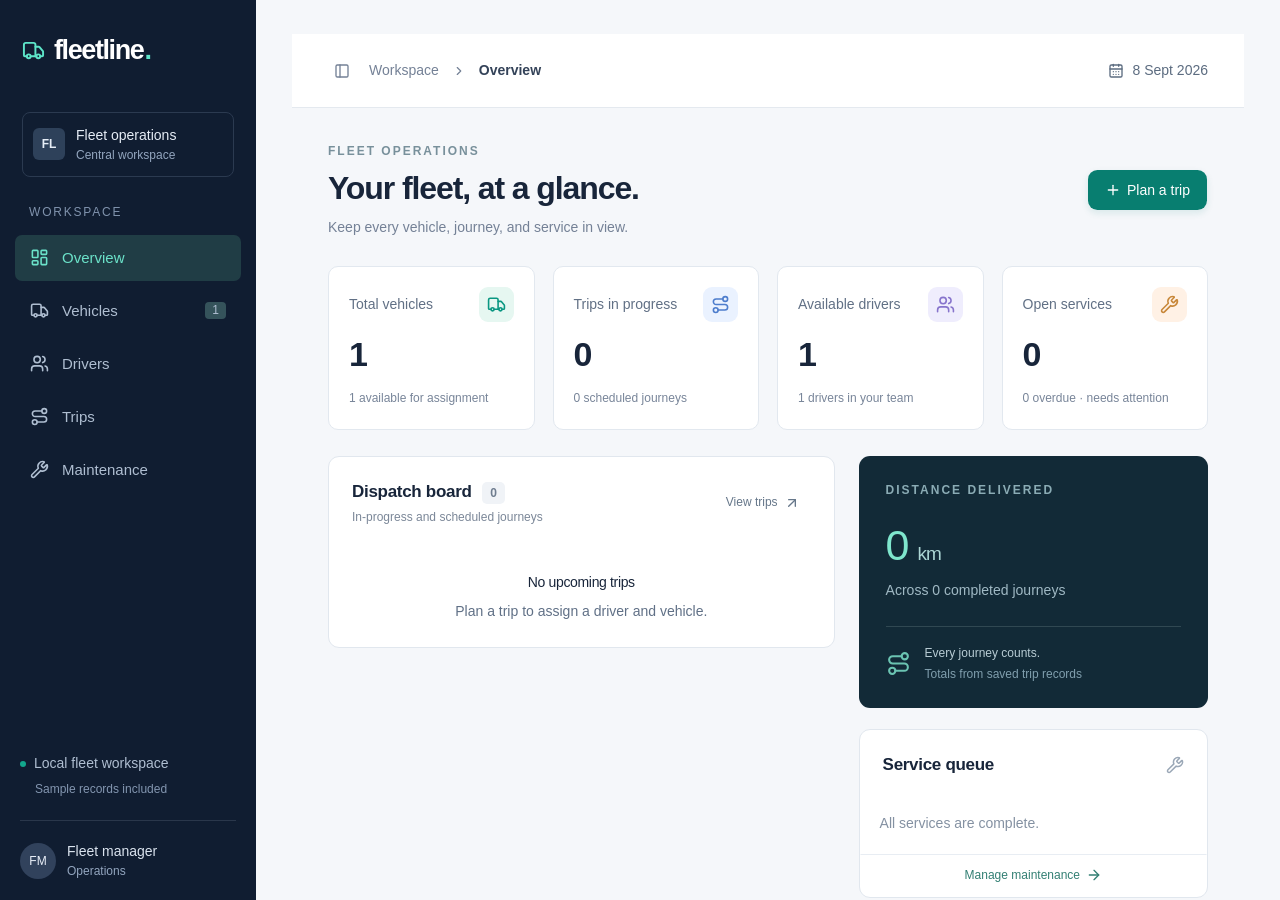
Test: Fleet workflows › requires confirmation before deleting
Expected: the text "1 available for assignment" is shown, [349, 391, 488, 405]
Click the button "Vehicles 1": (128, 310) [15, 288, 241, 334]
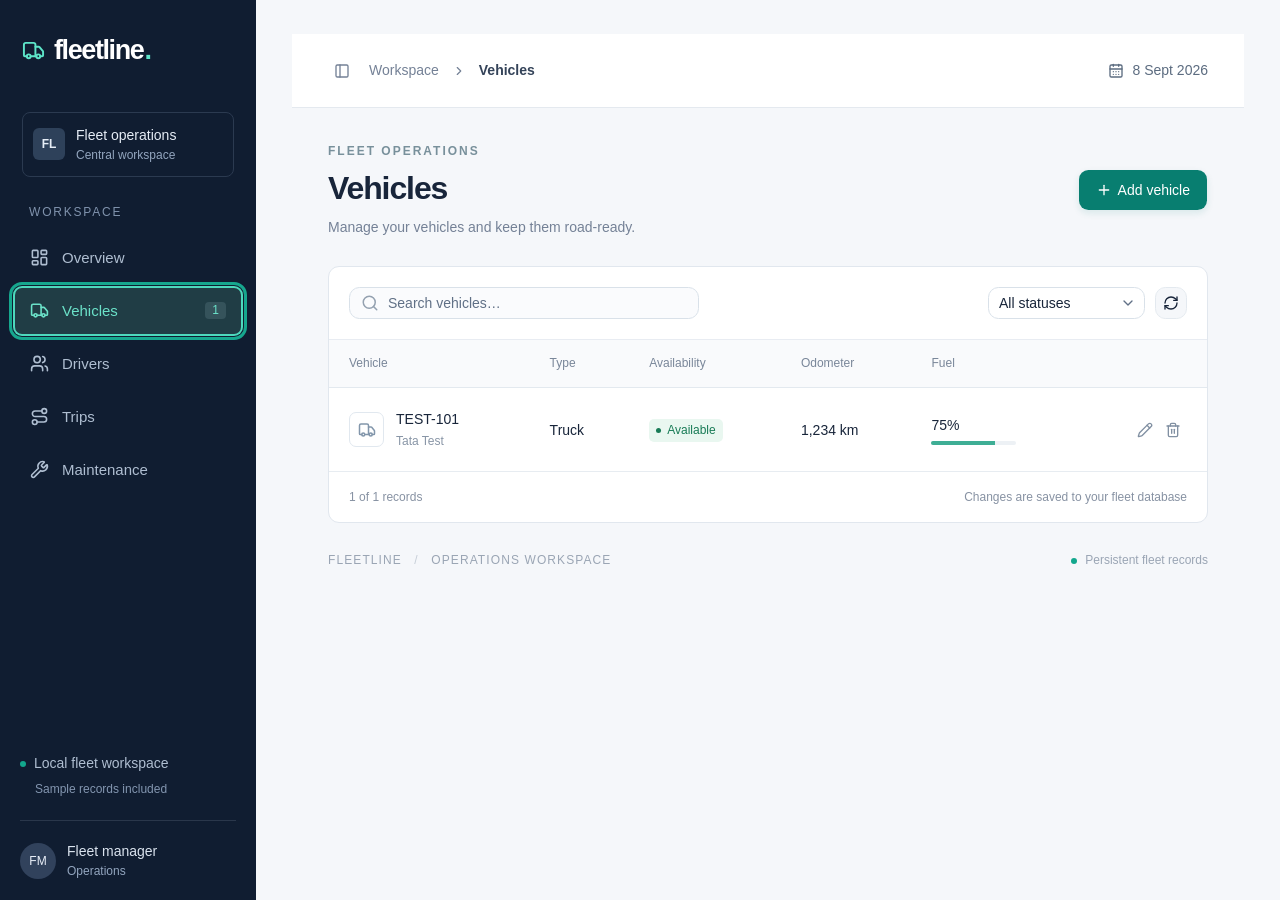
Click the button named "Delete vehicle 1": (1173, 430) [1159, 416, 1187, 444]
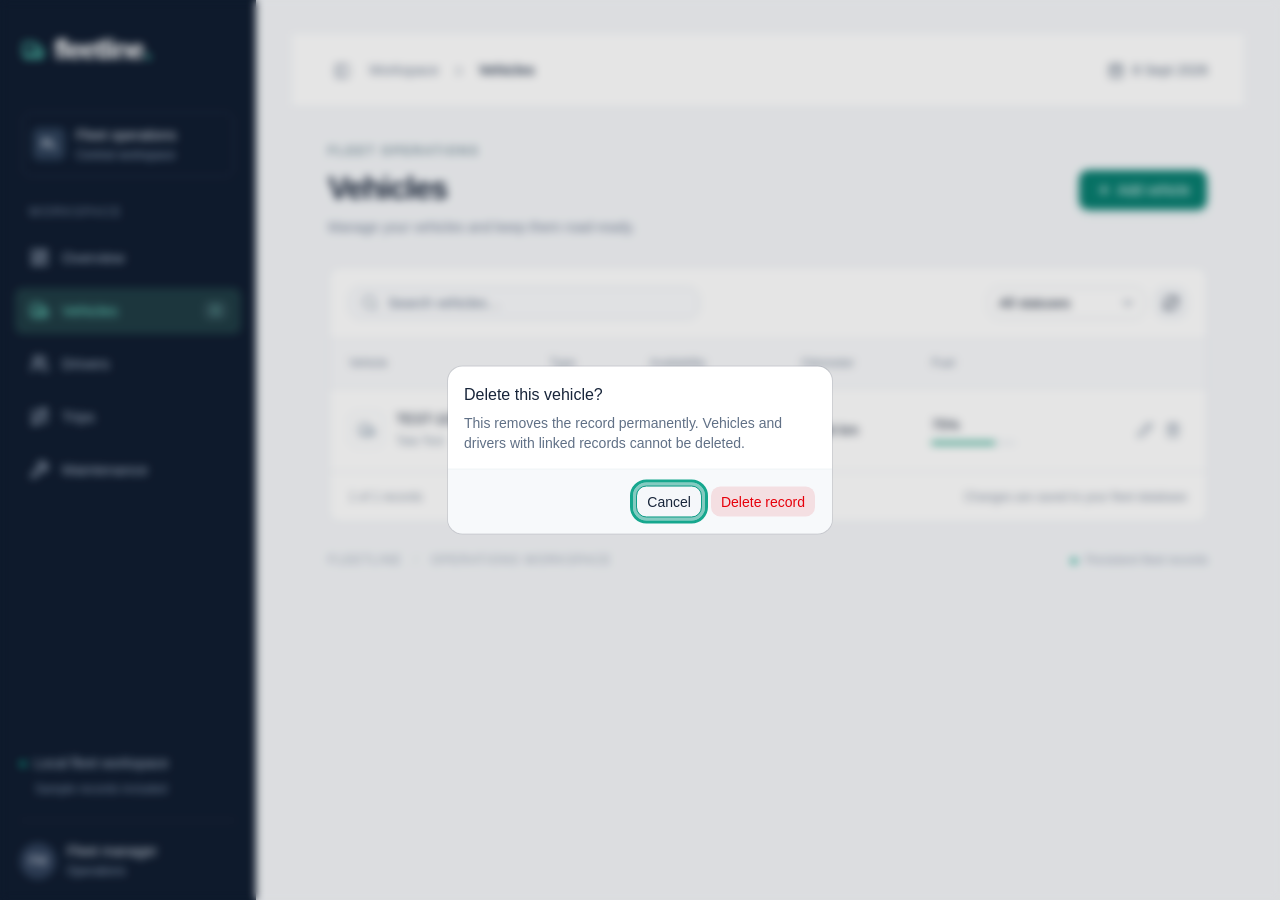
Expected: the dialog is shown, [448, 366, 832, 534]
Click the button "Delete record": (763, 502) [710, 486, 816, 518]
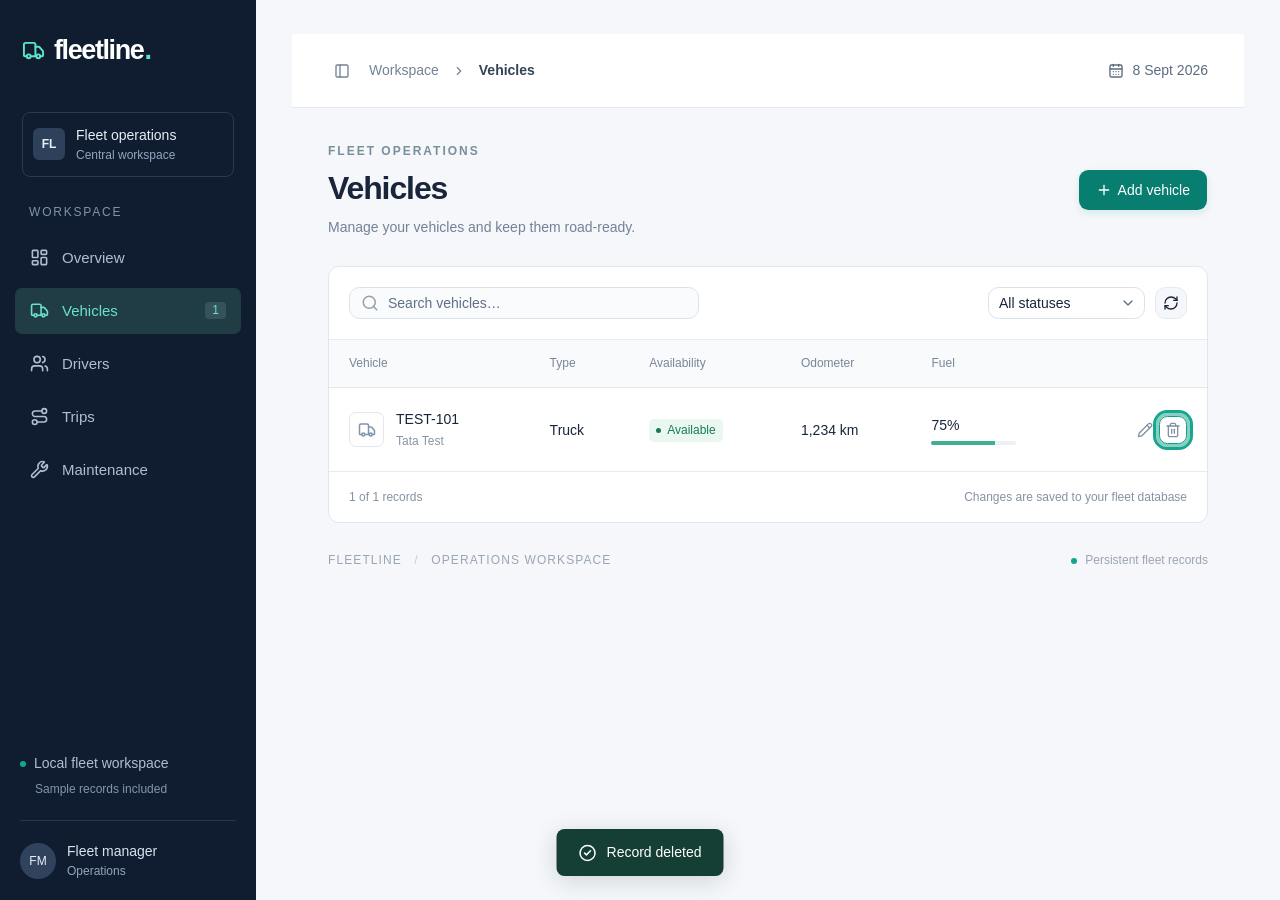
Expected: the text "Record deleted" is shown, [556, 829, 724, 876]
